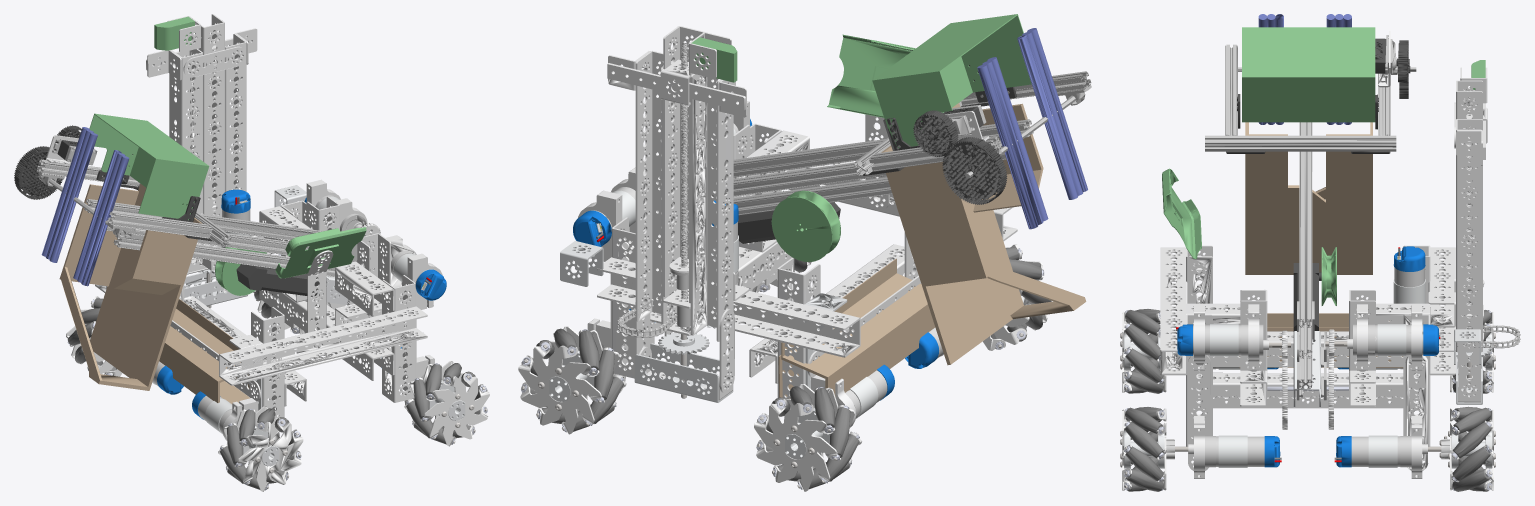
The model's file is sez2.glb.
The picture shows the model from 3 angles, left to right: view 1: azimuth 30°, elevation 25°; view 2: azimuth 150°, elevation 25°; view 3: azimuth 270°, elevation 25°; orthographic projection. The views are drawn at different scales.
Visible parts, largest first — view 1: Body1.290; view 2: Body1.290; view 3: Body1.290.
Part boxes in pixels (x1,y1,x2,y2): Body1.290: (14,14,489,491); Body1.290: (518,14,1091,491); Body1.290: (1120,14,1520,491).
Bounding box in the file's own units: 50.53 × 46.33 × 47.13.
